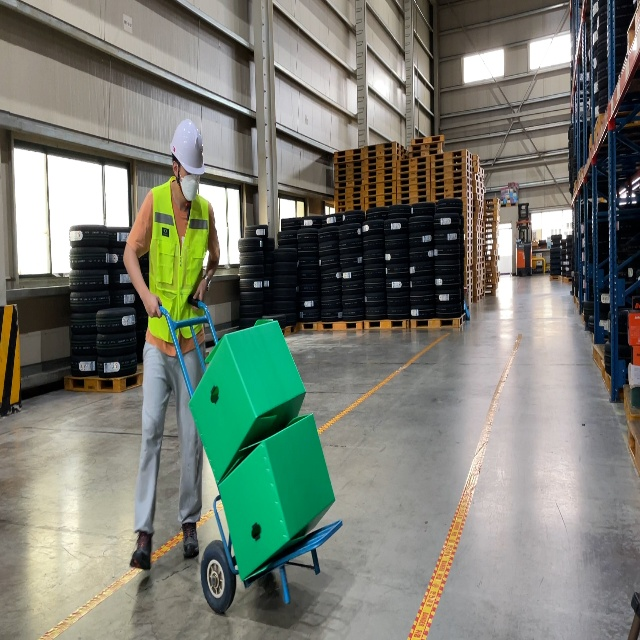Box: (217, 412, 336, 583), (187, 319, 307, 486)
Worker: (122, 118, 221, 572)
